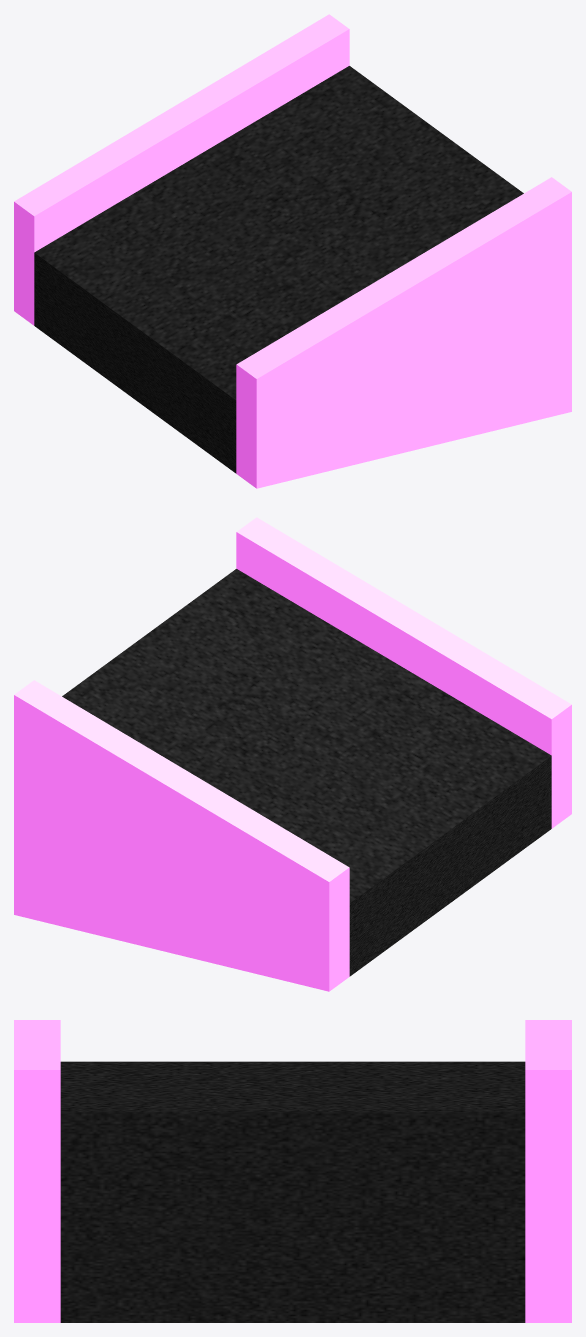
Rendered from Moving Ramp.glb.
3 renders of one model, top to bottom at view 1: azimuth 30°, elevation 25°; view 2: azimuth 150°, elevation 25°; view 3: azimuth 270°, elevation 25°, orthographic. The views are drawn at different scales.
Parts seen in each view (by area): view 1: Moving Ramp; view 2: Moving Ramp; view 3: Moving Ramp.
Part boxes in pixels (x1=…): Moving Ramp: x1=14, y1=14, x2=571, y2=488; Moving Ramp: x1=14, y1=517, x2=571, y2=991; Moving Ramp: x1=14, y1=1020, x2=571, y2=1322.
Size of what is drawn, in the model's own units: 1.8 by 1.2 by 2.4.
2 materials, 1 textured.
